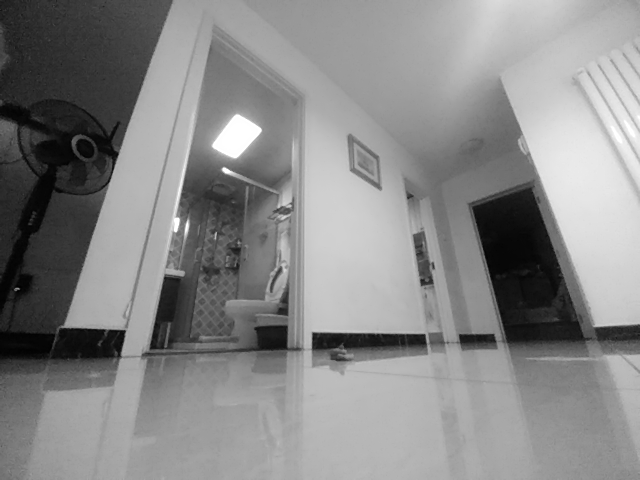pet feces: (328, 342, 356, 363)
